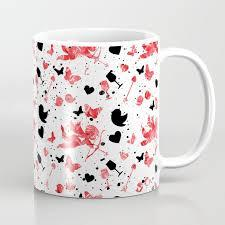cup: (31, 27, 216, 201)
